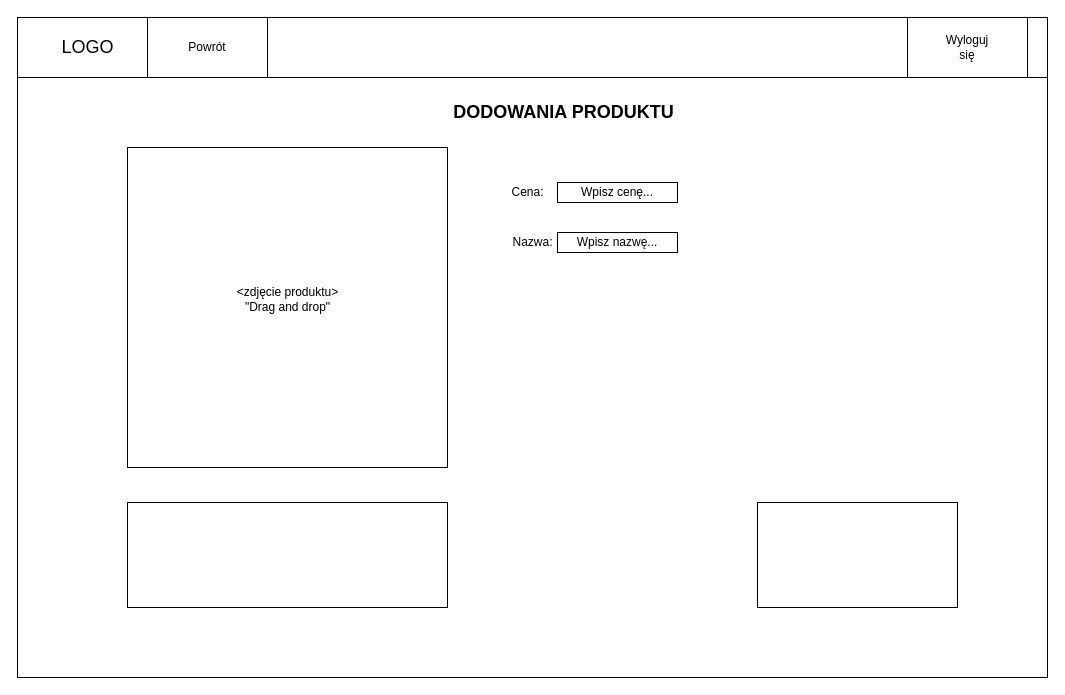
Some shapes in this 1065 by 695 pixel diagram are drawn without their labels. Here are the shapes that lost their labels. From the top down, the centre of each, then its label:
At point 287,555: "Dodaj opis...".
At point 857,555: "Dodaj".
